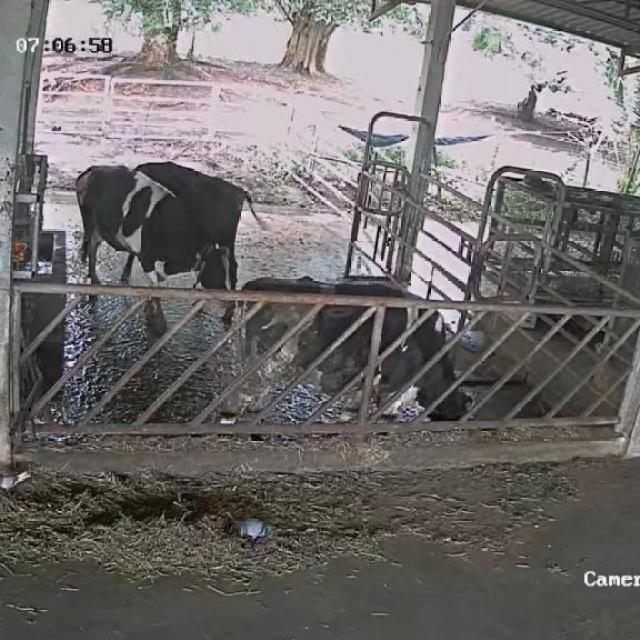standing: (221, 270, 472, 426), (74, 162, 235, 328), (136, 154, 256, 318)
